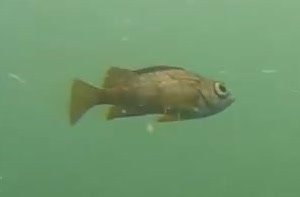smallfish: (66, 56, 243, 126)
